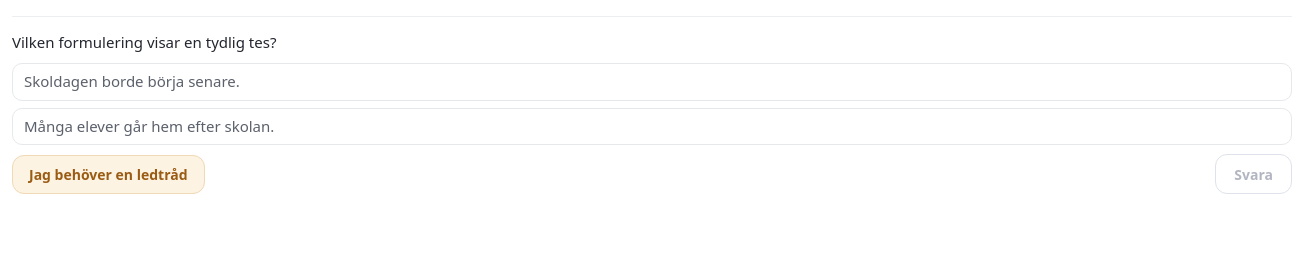
lesson check-in › accepts a selected answer and gives feedback
This screenshot has width=1304, height=272.
Click the button "Skoldagen borde börja senare.". click: (132,81)
box: [12,63,1292,101]
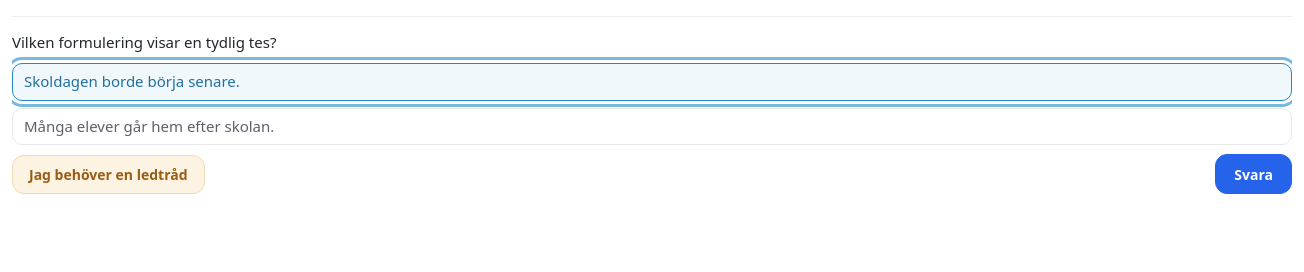
Click the button "Svara". click: (1254,174)
box: [1215,154,1292,194]
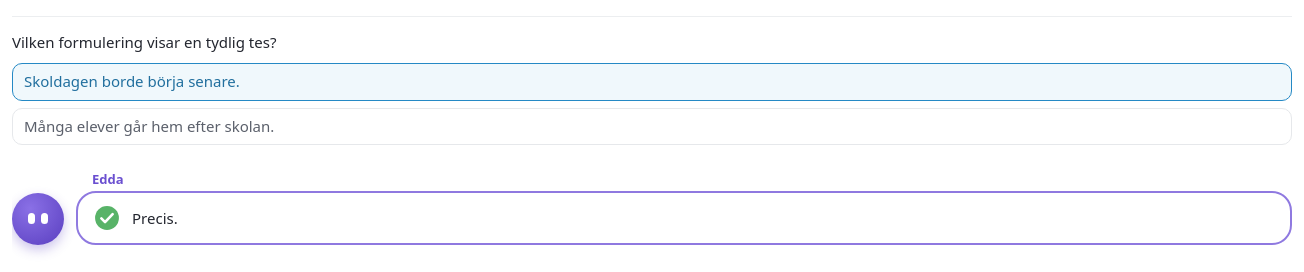
Check: the message shows "Precis.", box [132,208,178,228]
Check: the message shows "Edda", box [92,170,124,188]
Check: the icon with class "edda-mark" is shown, box [94,205,120,231]
